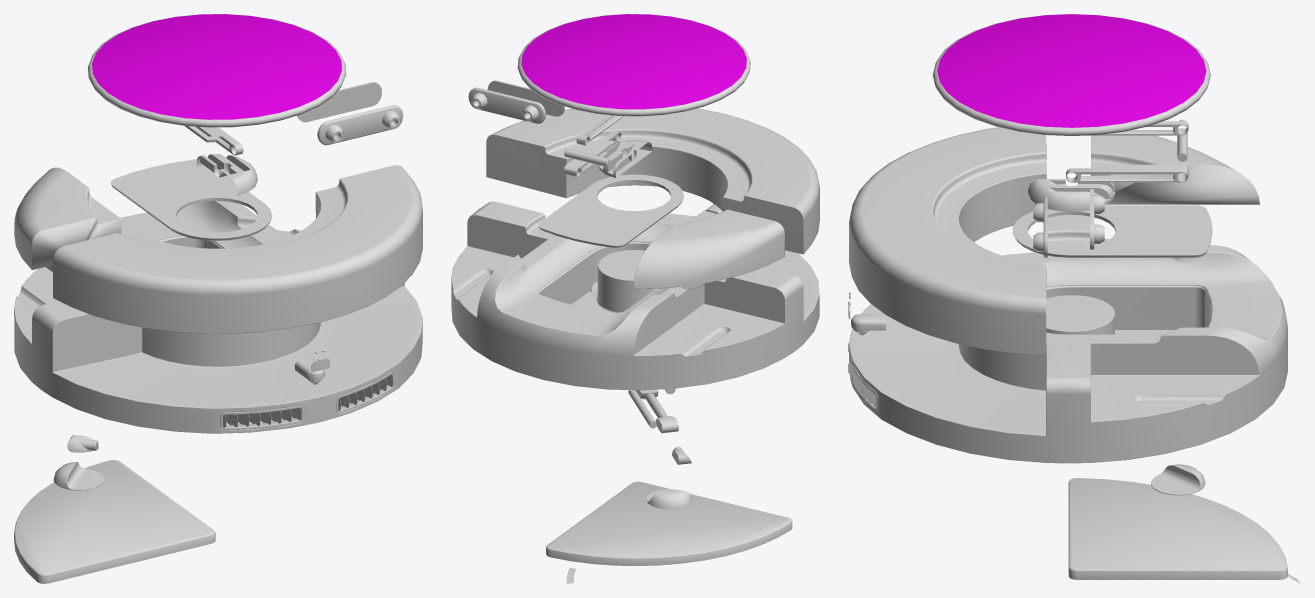
The model's file is MSH_DaySoon-explose.fbx.
The picture shows the model from 3 angles, left to right: view 1: azimuth 30°, elevation 25°; view 2: azimuth 150°, elevation 25°; view 3: azimuth 270°, elevation 25°; orthographic projection. The views are drawn at different scales.
Visible parts, largest first — view 1: MainFrame_lp, WaterTank_lp, ScreenHead_lp, PAD_lp, SoapTank_lp, Window_lp, ScreenArmBase_lp, Soapclipbase_lp, Tankclipbase_lp, ExhaustBlade_lp, Exhaust_lp, LegPadBase_lp (+2 smaller); view 2: MainFrame_lp, WaterTank_lp, ScreenHead_lp, PAD_lp, SoapTank_lp, Window_lp, Soapclipbase_lp, ScreenArmBase_lp, Tankclipbase_lp, BotArm_lp, LegPadBase_lp, TopArm_lp; view 3: MainFrame_lp, WaterTank_lp, ScreenHead_lp, PAD_lp, SoapTank_lp, Window_lp, BotArm_lp, ScreenArmBase_lp, LegPadBase_lp, TopArm_lp, Tap_lp.
Boxes of the visible parts, x1,y1,x2,y2 form: MainFrame_lp: (14, 201, 422, 433); WaterTank_lp: (53, 165, 422, 333); ScreenHead_lp: (88, 14, 346, 127); PAD_lp: (14, 460, 215, 583); SoapTank_lp: (14, 167, 121, 269); Window_lp: (110, 159, 272, 240); ScreenArmBase_lp: (196, 154, 257, 195); Soapclipbase_lp: (297, 82, 381, 122); Tankclipbase_lp: (317, 105, 403, 145); ExhaustBlade_lp: (223, 374, 393, 427); Exhaust_lp: (220, 371, 394, 430); LegPadBase_lp: (53, 462, 104, 490); MainFrame_lp: (451, 201, 819, 390); WaterTank_lp: (486, 108, 819, 254); ScreenHead_lp: (517, 14, 750, 116); PAD_lp: (546, 481, 792, 565); SoapTank_lp: (633, 209, 784, 289); Window_lp: (538, 174, 683, 247); Soapclipbase_lp: (468, 87, 545, 123); ScreenArmBase_lp: (597, 140, 652, 177); Tankclipbase_lp: (487, 80, 564, 116); BotArm_lp: (563, 130, 621, 177); LegPadBase_lp: (646, 489, 692, 509); TopArm_lp: (576, 114, 623, 145); MainFrame_lp: (849, 214, 1287, 463); WaterTank_lp: (849, 127, 1046, 355); ScreenHead_lp: (932, 14, 1210, 135); PAD_lp: (1068, 478, 1287, 579); SoapTank_lp: (1090, 129, 1259, 204); Window_lp: (1012, 205, 1212, 257); BotArm_lp: (1066, 164, 1188, 182); ScreenArmBase_lp: (1028, 179, 1115, 211); LegPadBase_lp: (1151, 464, 1205, 495); TopArm_lp: (1087, 119, 1188, 135); Tap_lp: (851, 313, 885, 330).
Size of the model in its own units: 100 by 133 by 103.
